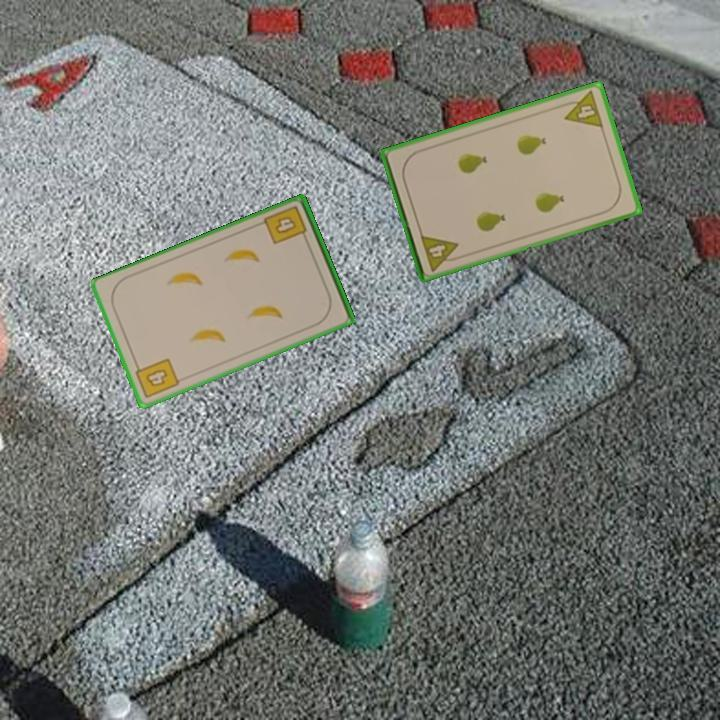4b: (131, 355, 182, 402), (260, 202, 310, 248)
4p: (557, 87, 606, 131), (417, 231, 464, 274)
